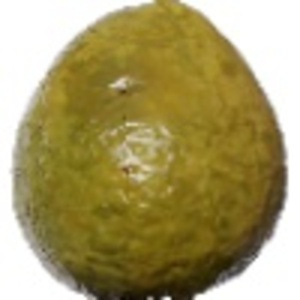goiaba: (10, 5, 288, 297)
